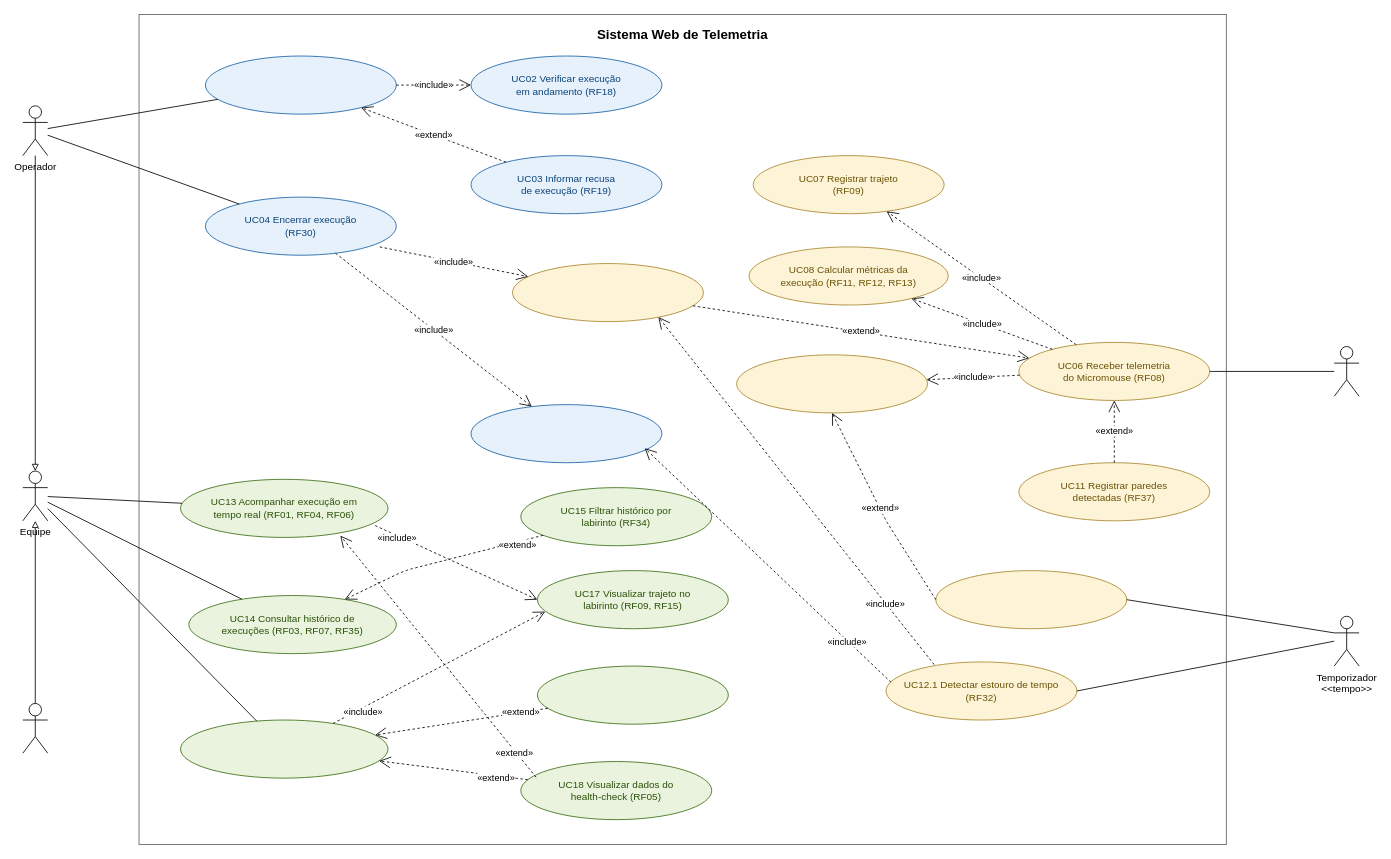
This 1391x859 diagram has some shape labels left out. The centre of each missing label's shape, as x and y in pixels:
"Banca" belongs at [35,728].
"Micromouse <<sistema>>" belongs at [1346,371].
"UC01 Iniciar execução (RF10, RF17)" belongs at [300,84].
"UC05 Armazenar dados finais (RF33)" belongs at [566,433].
"UC09 Registrar status da execução (RF16)" belongs at [832,383].
"UC10 Registrar falha da execução (RF15)" belongs at [607,292].
"UC12.2 Detectar perda de comunicação (RF31)" belongs at [1031,599].
"UC16 Consultar detalhes de uma execução (RF02, RF36)" belongs at [284,748].
"UC19 Comparar tempo entre execuções (RF14)" belongs at [632,694].
